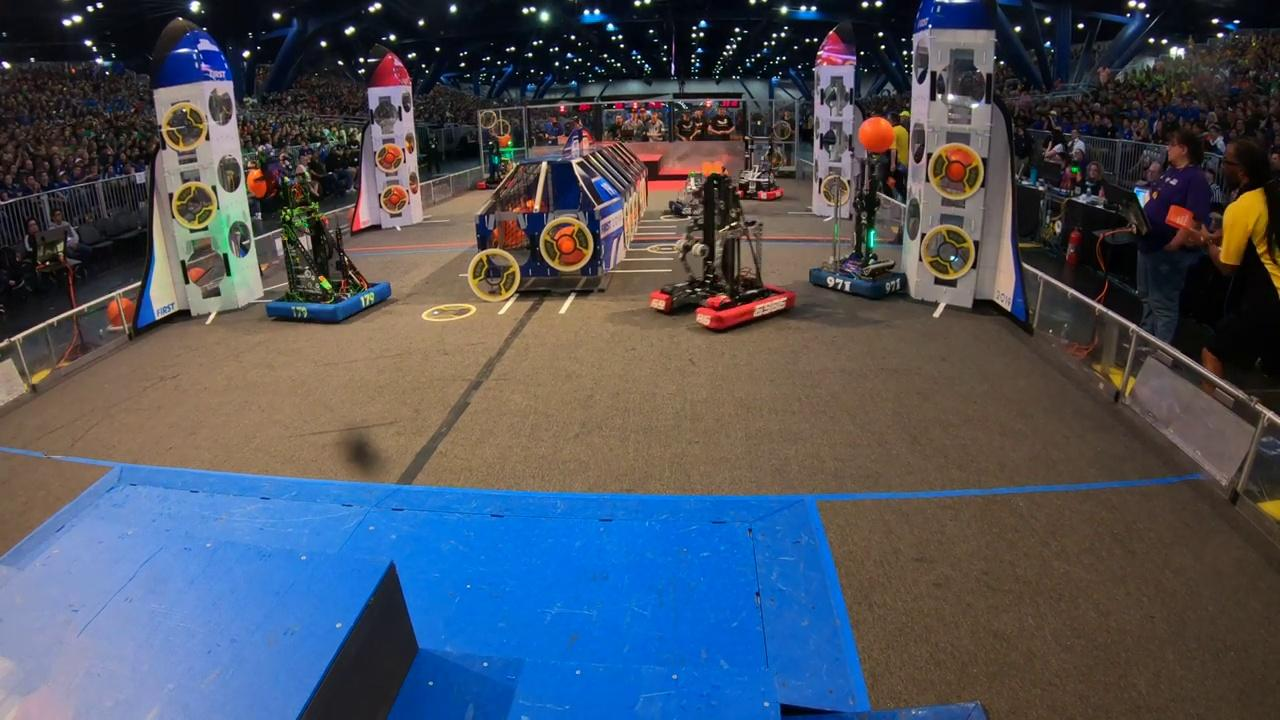robot: (646, 166, 799, 331), (247, 166, 393, 327), (808, 112, 910, 300), (733, 130, 785, 201), (470, 133, 520, 191)
